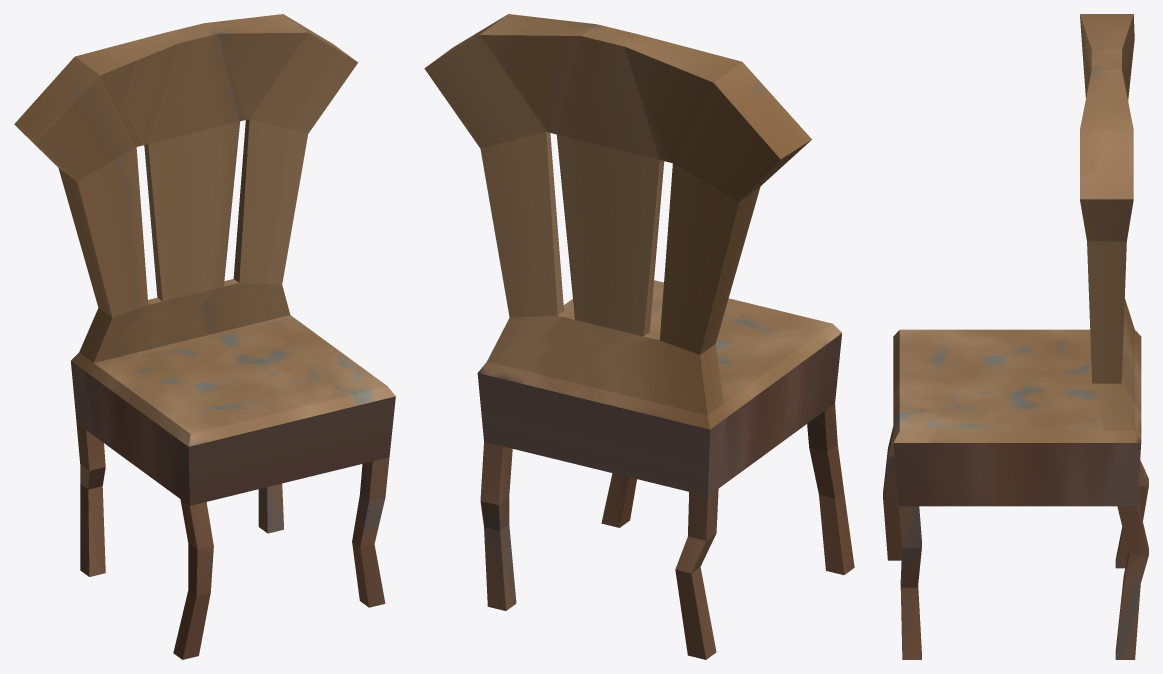
File: STOOL_3.fbx
3 renders of one model, left to right at view 1: azimuth 30°, elevation 25°; view 2: azimuth 150°, elevation 25°; view 3: azimuth 270°, elevation 25°, orthographic. The views are drawn at different scales.
Visible parts, largest first — view 1: Box001; view 2: Box001; view 3: Box001.
Boxes of the visible parts, x1,y1,x2,y2 form: Box001: (14,14,395,659); Box001: (424,14,854,659); Box001: (883,14,1148,659).
Bounding box in the file's own units: 70.24 × 109 × 47.85.
1 material, 1 textured.
